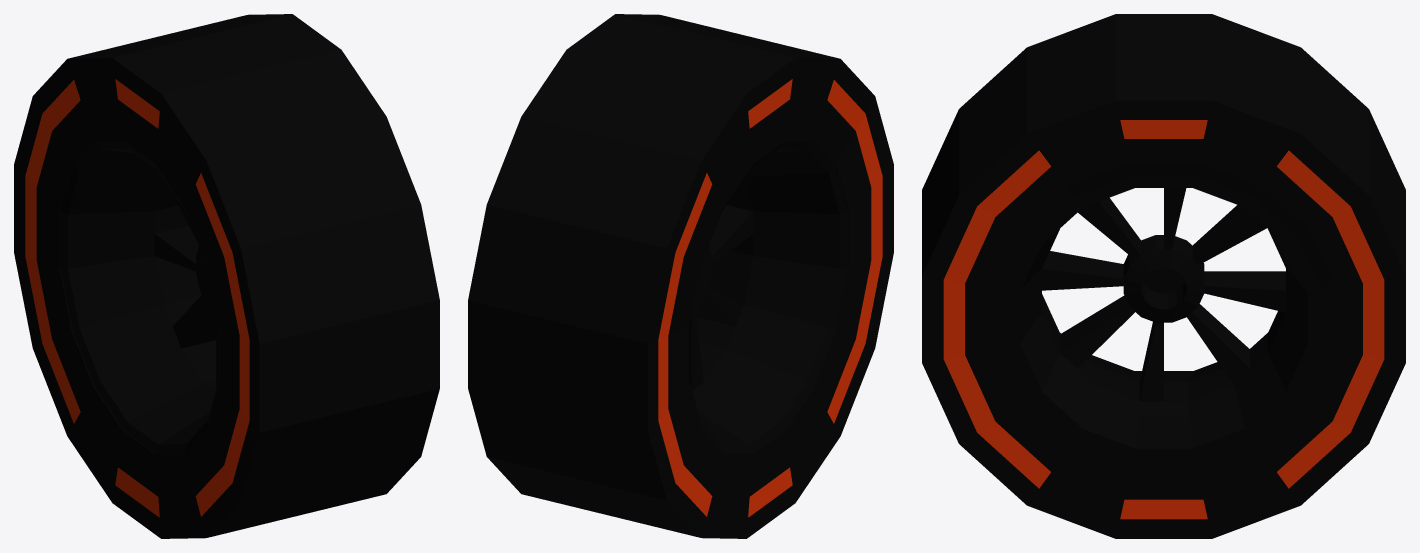
File: front-tyre.glb
3 views of the same model, side by side, from view 1: azimuth 30°, elevation 25°; view 2: azimuth 150°, elevation 25°; view 3: azimuth 270°, elevation 25° (orthographic).
Parts seen in each view (by area): view 1: Tyre; view 2: Tyre; view 3: Tyre.
Boxes of the visible parts, x1,y1,x2,y2 form: Tyre: (14,14,439,538); Tyre: (468,14,893,538); Tyre: (922,14,1405,538).
Bounding box in the file's own units: 0.305 × 0.72 × 0.72.
